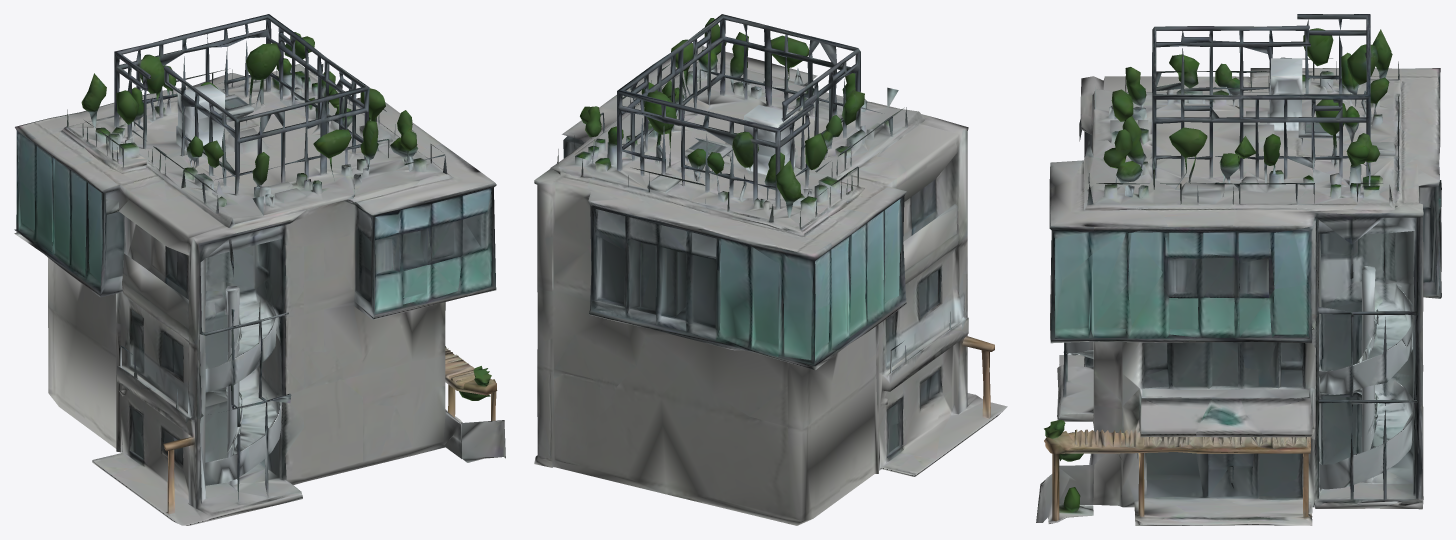
The model's file is au_bld_creatorverse.glb.
The picture shows the model from 3 angles, left to right: view 1: azimuth 30°, elevation 25°; view 2: azimuth 150°, elevation 25°; view 3: azimuth 270°, elevation 25°; orthographic projection. The views are drawn at different scales.
Parts seen in each view (by area): view 1: tripo_node_adb38251-30d3-4198-9e9c-8c544f8eac50; view 2: tripo_node_adb38251-30d3-4198-9e9c-8c544f8eac50; view 3: tripo_node_adb38251-30d3-4198-9e9c-8c544f8eac50.
Part boxes in pixels (left/top/right/bottom): tripo_node_adb38251-30d3-4198-9e9c-8c544f8eac50: left=14, top=14, right=505, bottom=525; tripo_node_adb38251-30d3-4198-9e9c-8c544f8eac50: left=534, top=14, right=1007, bottom=525; tripo_node_adb38251-30d3-4198-9e9c-8c544f8eac50: left=1036, top=14, right=1441, bottom=525.
Size of the model in its own units: 0.9268 by 0.9794 by 0.9387.
Materials: 1 (1 with a texture image).
